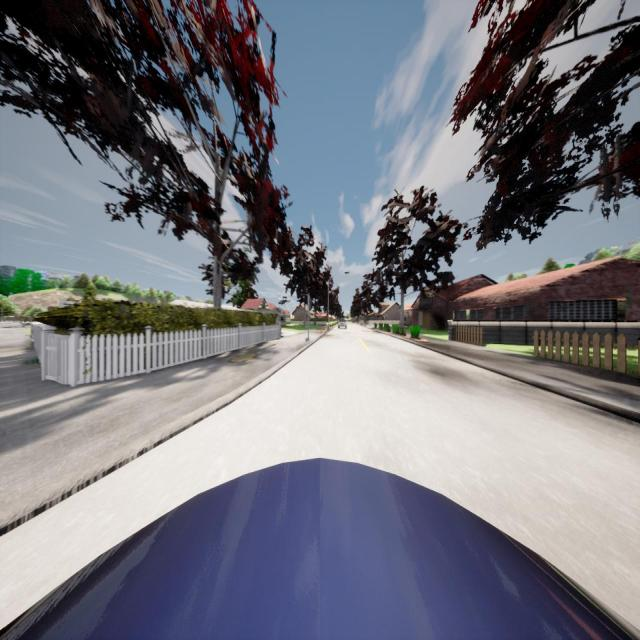Vehicle: (0, 455, 640, 640), (338, 318, 347, 329)
traffic_light: (308, 298, 312, 310)
